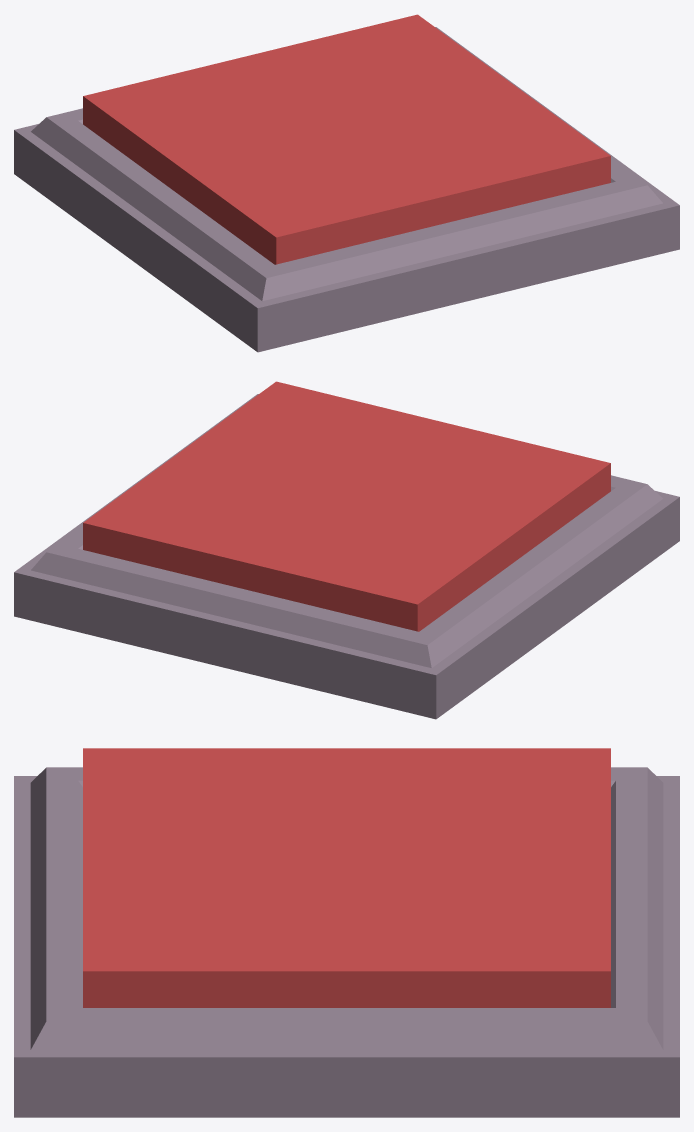
The model's file is Button.fbx.
3 views of the same model, one above another, from view 1: azimuth 30°, elevation 25°; view 2: azimuth 150°, elevation 25°; view 3: azimuth 270°, elevation 25° (orthographic). The views are drawn at different scales.
Visible parts, largest first — view 1: button, Housing; view 2: button, Housing; view 3: button, Housing.
Part boxes in pixels (x1,y1,x2,y2): button: [83, 14, 610, 264]; Housing: [14, 27, 679, 352]; button: [83, 381, 610, 631]; Housing: [14, 394, 679, 719]; button: [83, 748, 610, 1007]; Housing: [14, 767, 679, 1117].
Size of the model in its own units: 200 by 38.81 by 200.
